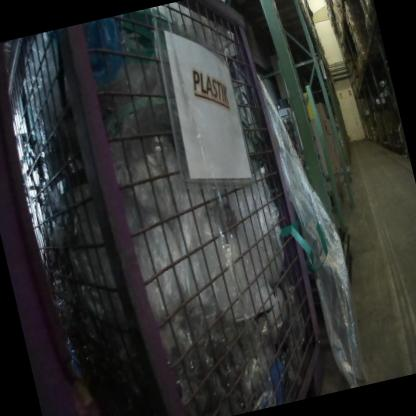pallet: (308, 183, 353, 232)
